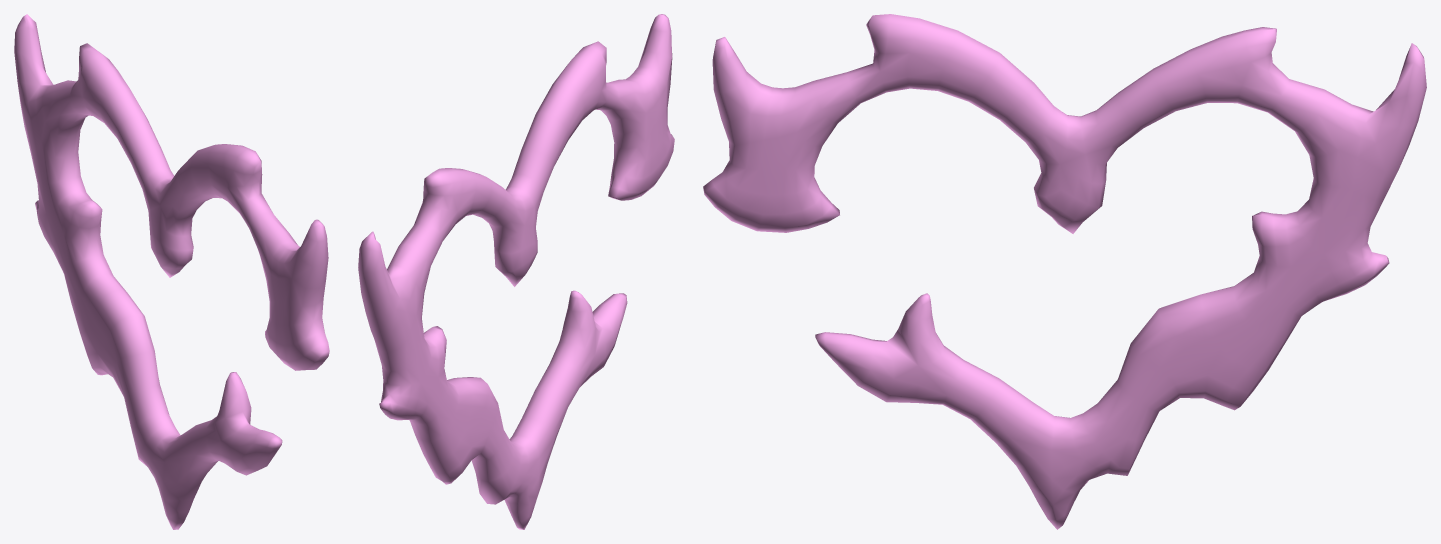
File: chromehearteffect.fbx
3 renders of one model, left to right at view 1: azimuth 30°, elevation 25°; view 2: azimuth 150°, elevation 25°; view 3: azimuth 270°, elevation 25°, orthographic. The views are drawn at different scales.
Visible parts, largest first — view 1: Retopo_Plane.001; view 2: Retopo_Plane.001; view 3: Retopo_Plane.001.
Boxes of the visible parts, left/top/right/bottom form: Retopo_Plane.001: left=14, top=14, right=329, bottom=529; Retopo_Plane.001: left=358, top=14, right=674, bottom=529; Retopo_Plane.001: left=703, top=14, right=1426, bottom=529.
Size of the model in its own units: 16.73 by 224 by 285.
